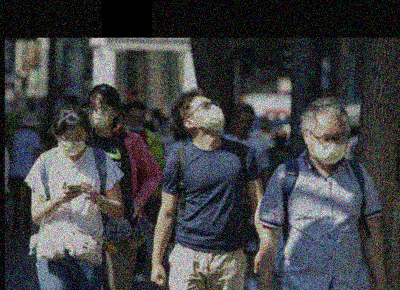mask_weared_incorrect: (126, 110, 143, 133)
with_mask: (306, 126, 348, 164), (189, 99, 223, 132), (56, 128, 86, 157), (86, 98, 113, 128)
without_mask: (233, 113, 252, 135)
